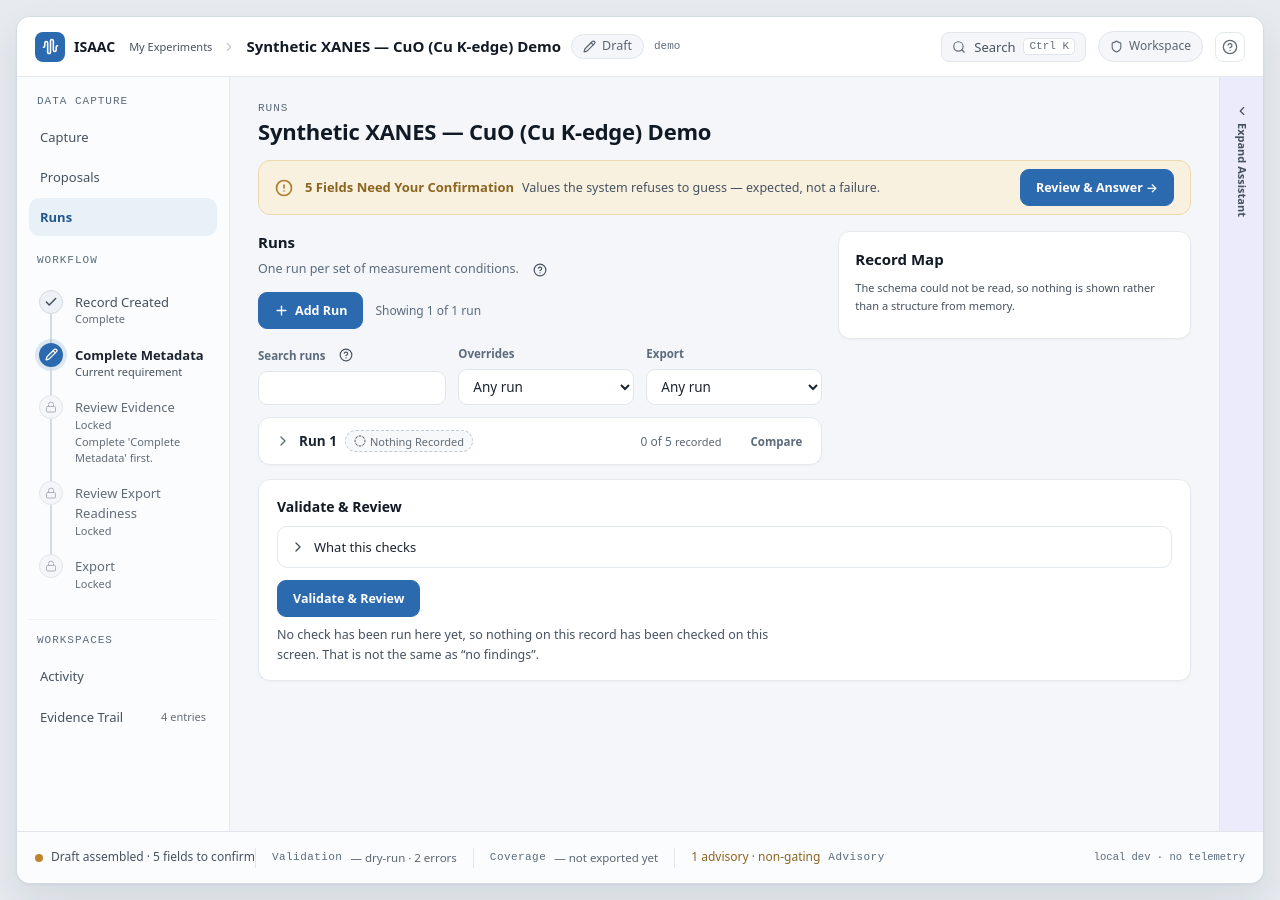
it: the picker is the primary control, and it says which clock it is › MUTATION-GUARDED: the zone is stated, not assumed
The width and height of the screenshot is (1280, 900).
Expected: the button "Add Run" is shown, [258,292,363,330]
Click the button "Run 1 Nothing Recorded 0 of 5 recorded". click: (291,450)
box: [259,418,738,464]
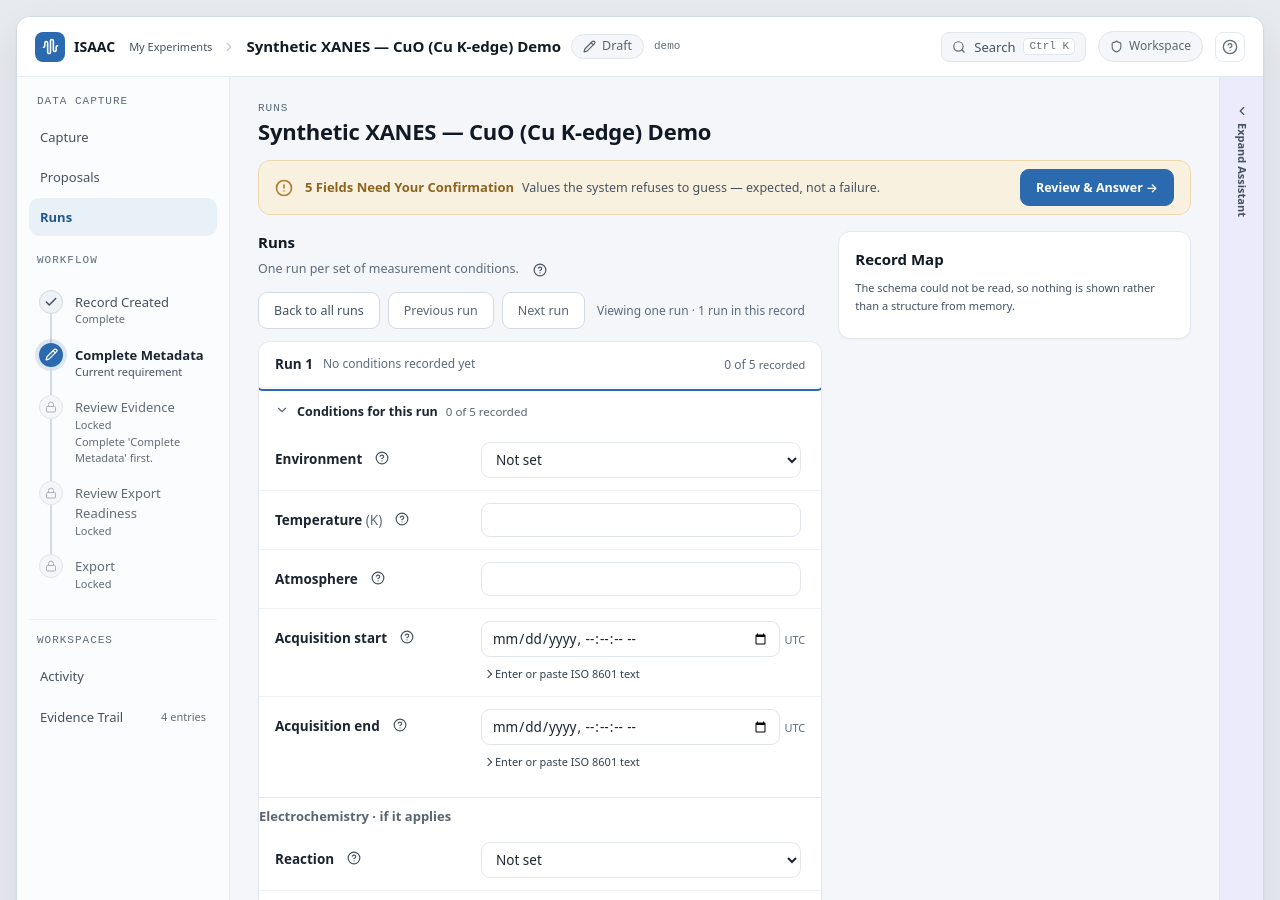
Expected: the text "UTC" in the row of "Acquisition start" is shown, [784,632,805,647]
